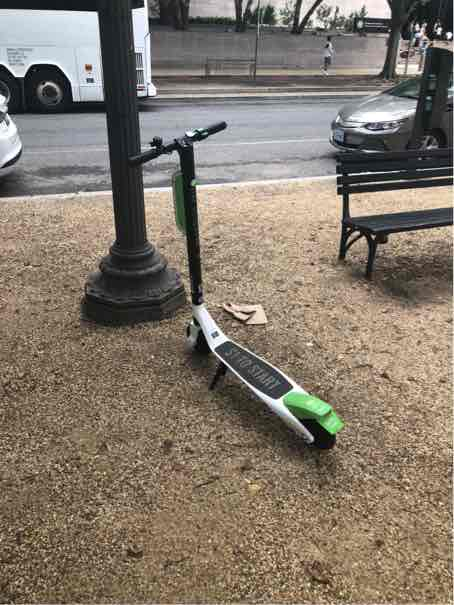scooter: (119, 109, 346, 459)
